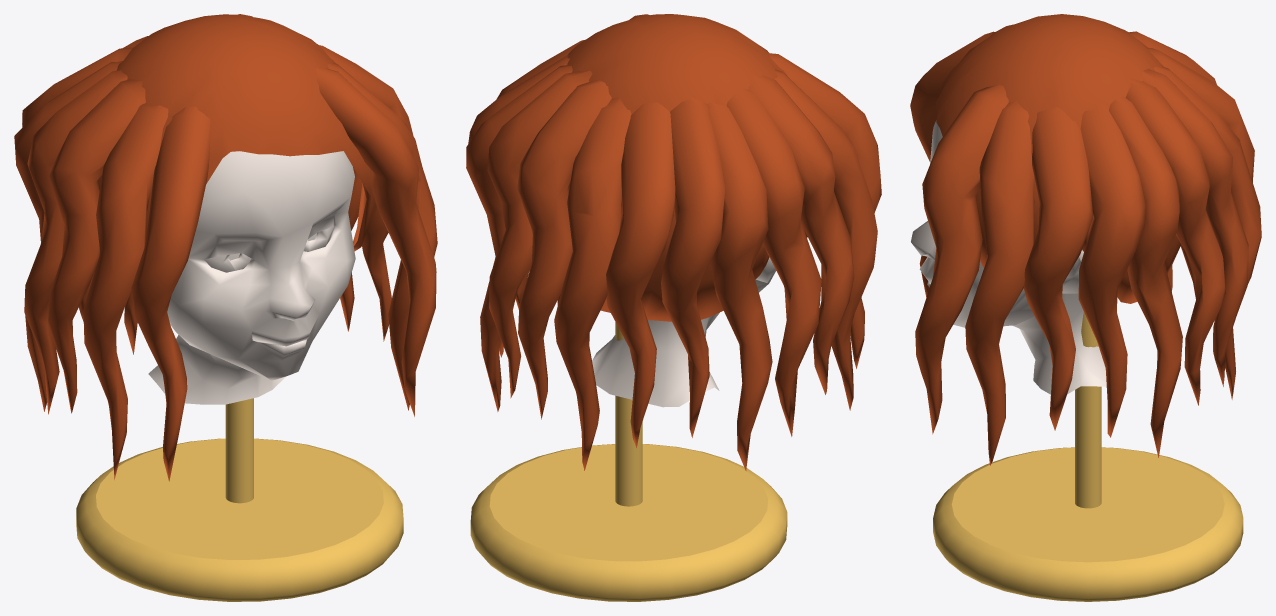
File: rain.hair.auburn-volume.glb
3 renders of one model, left to right at view 1: azimuth 30°, elevation 25°; view 2: azimuth 150°, elevation 25°; view 3: azimuth 270°, elevation 25°, orthographic. The views are drawn at different scales.
Parts seen in each view (by area): view 1: stand_base, GEO-rain-head, Hairstyles.auburn-volume.Crown, Hairstyles.auburn-volume.Curl 14Anchor.Curl 14, Hairstyles.auburn-volume.Curl 13Anchor.Curl 13, Hairstyles.auburn-volume.Curl 0Anchor.Curl 0, Hairstyles.auburn-volume.Curl 12Anchor.Curl 12, Hairstyles.auburn-volume.Curl 11Anchor.Curl 11, Hairstyles.auburn-volume.Curl 1Anchor.Curl 1, Hairstyles.auburn-volume.Curl 2Anchor.Curl 2, Hairstyles.auburn-volume.Curl 10Anchor.Curl 10, stand_stem (+3 smaller); view 2: stand_base, Hairstyles.auburn-volume.Crown, Hairstyles.auburn-volume.Curl 7Anchor.Curl 7, Hairstyles.auburn-volume.Curl 8Anchor.Curl 8, Hairstyles.auburn-volume.Curl 6Anchor.Curl 6, Hairstyles.auburn-volume.Curl 9Anchor.Curl 9, Hairstyles.auburn-volume.Curl 10Anchor.Curl 10, Hairstyles.auburn-volume.Curl 11Anchor.Curl 11, Hairstyles.auburn-volume.Curl 12Anchor.Curl 12, Hairstyles.auburn-volume.Curl 5Anchor.Curl 5, Hairstyles.auburn-volume.Curl 13Anchor.Curl 13, GEO-rain-head (+5 smaller); view 3: stand_base, Hairstyles.auburn-volume.Crown, Hairstyles.auburn-volume.Curl 0Anchor.Curl 0, Hairstyles.auburn-volume.Curl 1Anchor.Curl 1, Hairstyles.auburn-volume.Curl 2Anchor.Curl 2, Hairstyles.auburn-volume.Curl 3Anchor.Curl 3, Hairstyles.auburn-volume.Curl 4Anchor.Curl 4, Hairstyles.auburn-volume.Curl 5Anchor.Curl 5, Hairstyles.auburn-volume.Curl 6Anchor.Curl 6, GEO-rain-head, Hairstyles.auburn-volume.Curl 7Anchor.Curl 7, stand_stem (+3 smaller).
Part boxes in pixels (left/top/right/bottom): stand_base: left=76, top=438, right=403, bottom=601; GEO-rain-head: left=148, top=151, right=355, bottom=404; Hairstyles.auburn-volume.Crown: left=98, top=14, right=375, bottom=250; Hairstyles.auburn-volume.Curl 14Anchor.Curl 14: left=131, top=106, right=210, bottom=481; Hairstyles.auburn-volume.Curl 13Anchor.Curl 13: left=83, top=103, right=168, bottom=479; Hairstyles.auburn-volume.Curl 0Anchor.Curl 0: left=315, top=66, right=436, bottom=416; Hairstyles.auburn-volume.Curl 12Anchor.Curl 12: left=47, top=79, right=145, bottom=413; Hairstyles.auburn-volume.Curl 11Anchor.Curl 11: left=24, top=70, right=127, bottom=414; Hairstyles.auburn-volume.Curl 1Anchor.Curl 1: left=327, top=62, right=437, bottom=410; Hairstyles.auburn-volume.Curl 2Anchor.Curl 2: left=318, top=45, right=413, bottom=341; Hairstyles.auburn-volume.Curl 10Anchor.Curl 10: left=14, top=61, right=122, bottom=411; stand_stem: left=225, top=398, right=253, bottom=503; stand_base: left=470, top=444, right=787, bottom=601; Hairstyles.auburn-volume.Crown: left=567, top=14, right=807, bottom=321; Hairstyles.auburn-volume.Curl 7Anchor.Curl 7: left=554, top=97, right=631, bottom=470; Hairstyles.auburn-volume.Curl 8Anchor.Curl 8: left=606, top=102, right=675, bottom=447; Hairstyles.auburn-volume.Curl 6Anchor.Curl 6: left=517, top=80, right=611, bottom=419; Hairstyles.auburn-volume.Curl 9Anchor.Curl 9: left=661, top=97, right=725, bottom=437; Hairstyles.auburn-volume.Curl 10Anchor.Curl 10: left=708, top=102, right=772, bottom=470; Hairstyles.auburn-volume.Curl 11Anchor.Curl 11: left=726, top=89, right=821, bottom=436; Hairstyles.auburn-volume.Curl 12Anchor.Curl 12: left=748, top=75, right=854, bottom=394; Hairstyles.auburn-volume.Curl 5Anchor.Curl 5: left=487, top=70, right=592, bottom=398; Hairstyles.auburn-volume.Curl 13Anchor.Curl 13: left=774, top=69, right=877, bottom=410; GEO-rain-head: left=592, top=257, right=776, bottom=407; stand_base: left=933, top=447, right=1243, bottom=601; Hairstyles.auburn-volume.Crown: left=935, top=14, right=1181, bottom=303; Hairstyles.auburn-volume.Curl 0Anchor.Curl 0: left=915, top=84, right=1008, bottom=434; Hairstyles.auburn-volume.Curl 1Anchor.Curl 1: left=965, top=101, right=1034, bottom=465; Hairstyles.auburn-volume.Curl 2Anchor.Curl 2: left=1023, top=107, right=1092, bottom=430; Hairstyles.auburn-volume.Curl 3Anchor.Curl 3: left=1078, top=104, right=1145, bottom=437; Hairstyles.auburn-volume.Curl 4Anchor.Curl 4: left=1109, top=96, right=1182, bottom=457; Hairstyles.auburn-volume.Curl 5Anchor.Curl 5: left=1125, top=79, right=1225, bottom=405; Hairstyles.auburn-volume.Curl 6Anchor.Curl 6: left=1142, top=68, right=1248, bottom=386; GEO-rain-head: left=911, top=120, right=1106, bottom=394; Hairstyles.auburn-volume.Curl 7Anchor.Curl 7: left=1154, top=66, right=1261, bottom=399; stand_stem: left=1075, top=312, right=1101, bottom=508.
Size of the model in its own units: 0.5365 by 0.75 by 0.476.
